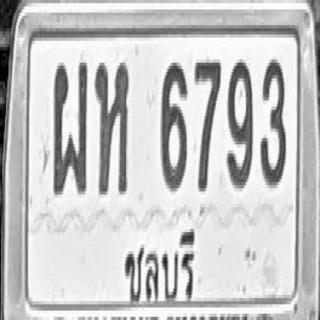A28: (53, 59, 88, 194)
A41: (95, 59, 128, 194)
N03: (259, 56, 286, 185)
N06: (161, 60, 187, 191)
N07: (194, 56, 221, 192)
N09: (226, 58, 253, 187)
P13: (117, 219, 199, 310)
